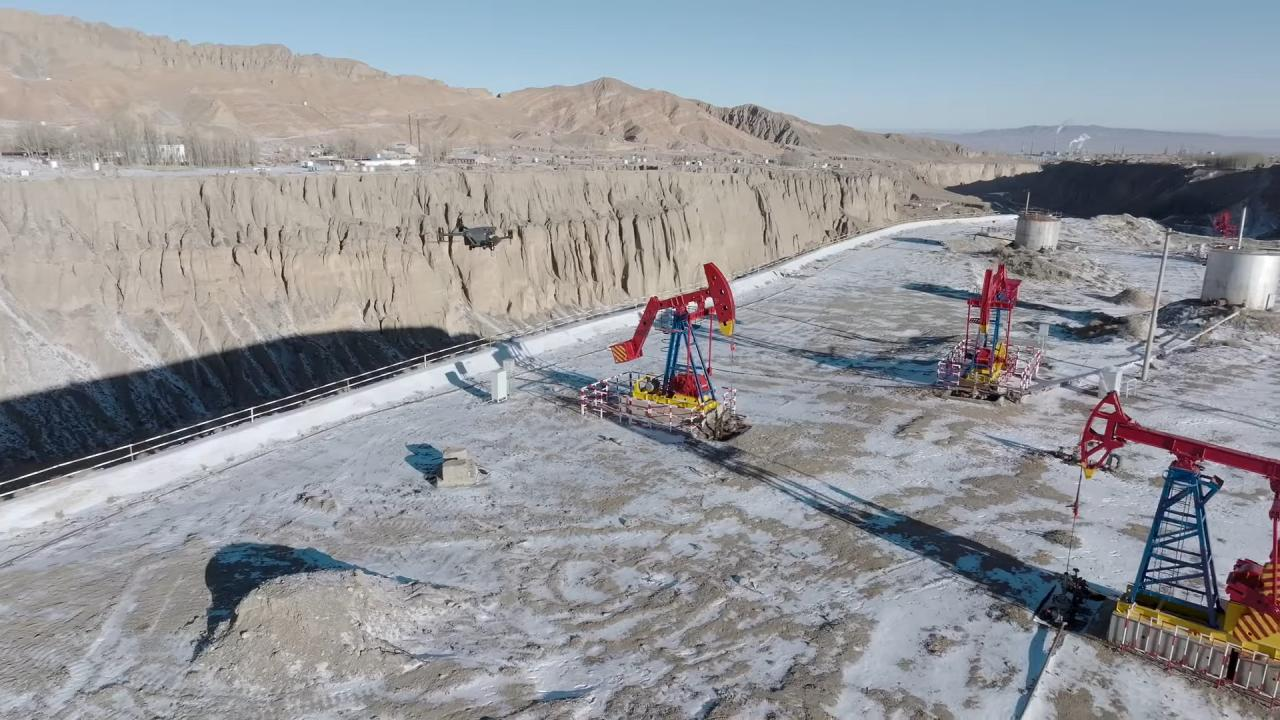Drone: (422, 204, 531, 261)
